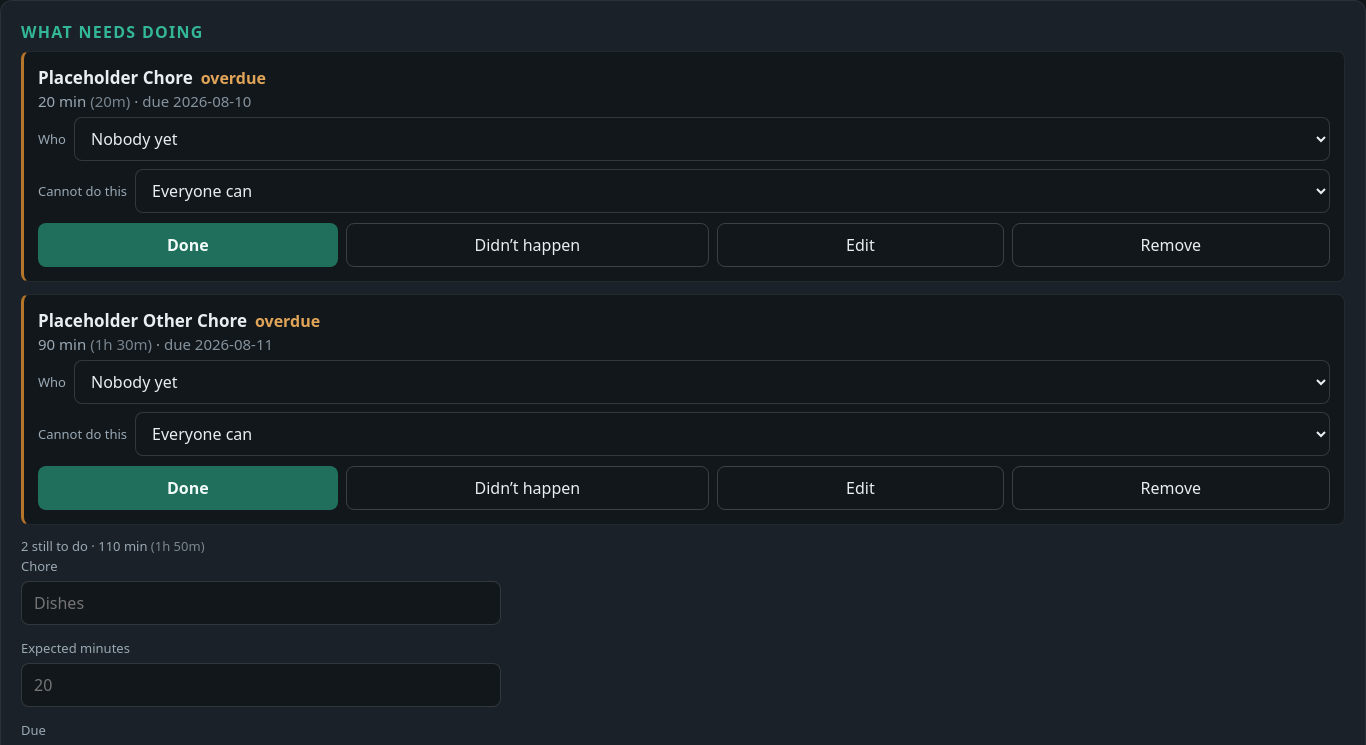
Test: AC 6 — editing and removing go through the handler › cancelling an edit restores what was there
Click the button with aria-label "edit placeholder chore" at (860, 245), box x1=717 y1=223 x2=1004 y2=267
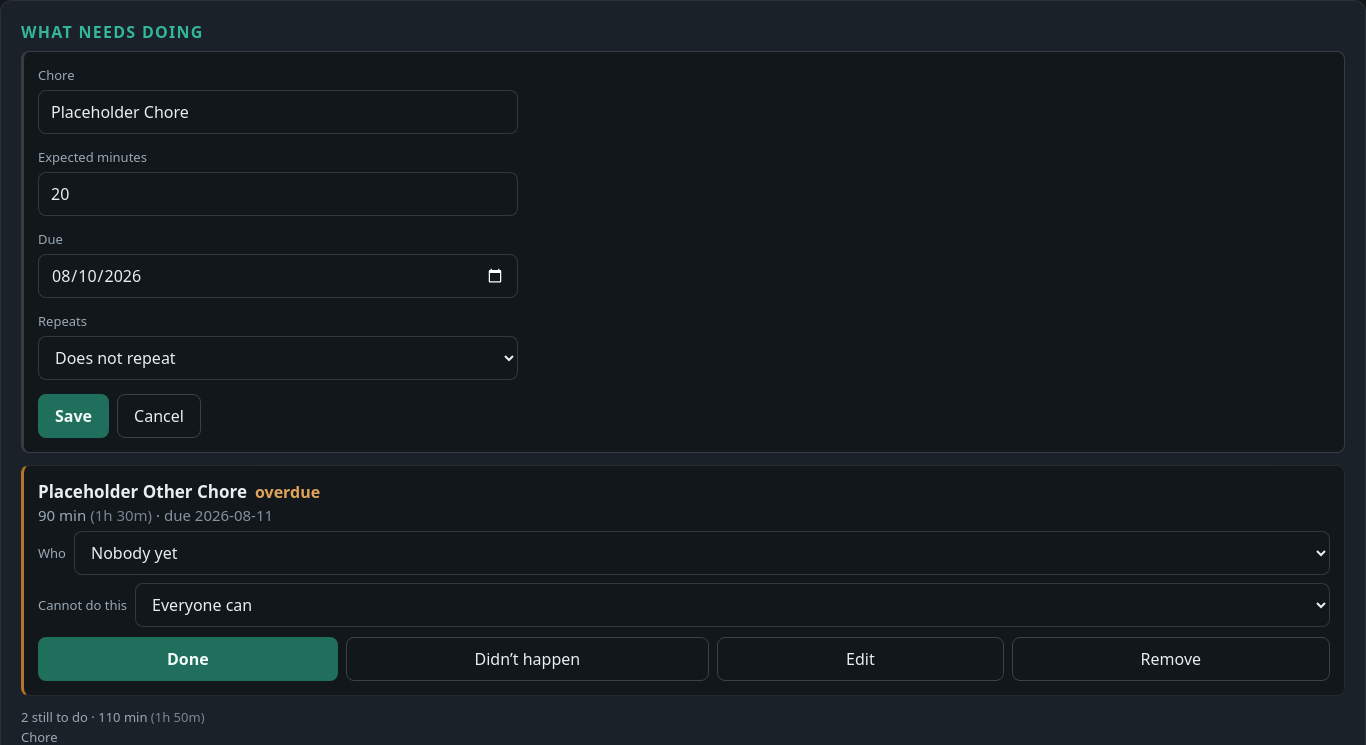
Replace the text in the field named "name for placeholder chore" with "Something else" at (278, 112), box x1=38 y1=90 x2=518 y2=134
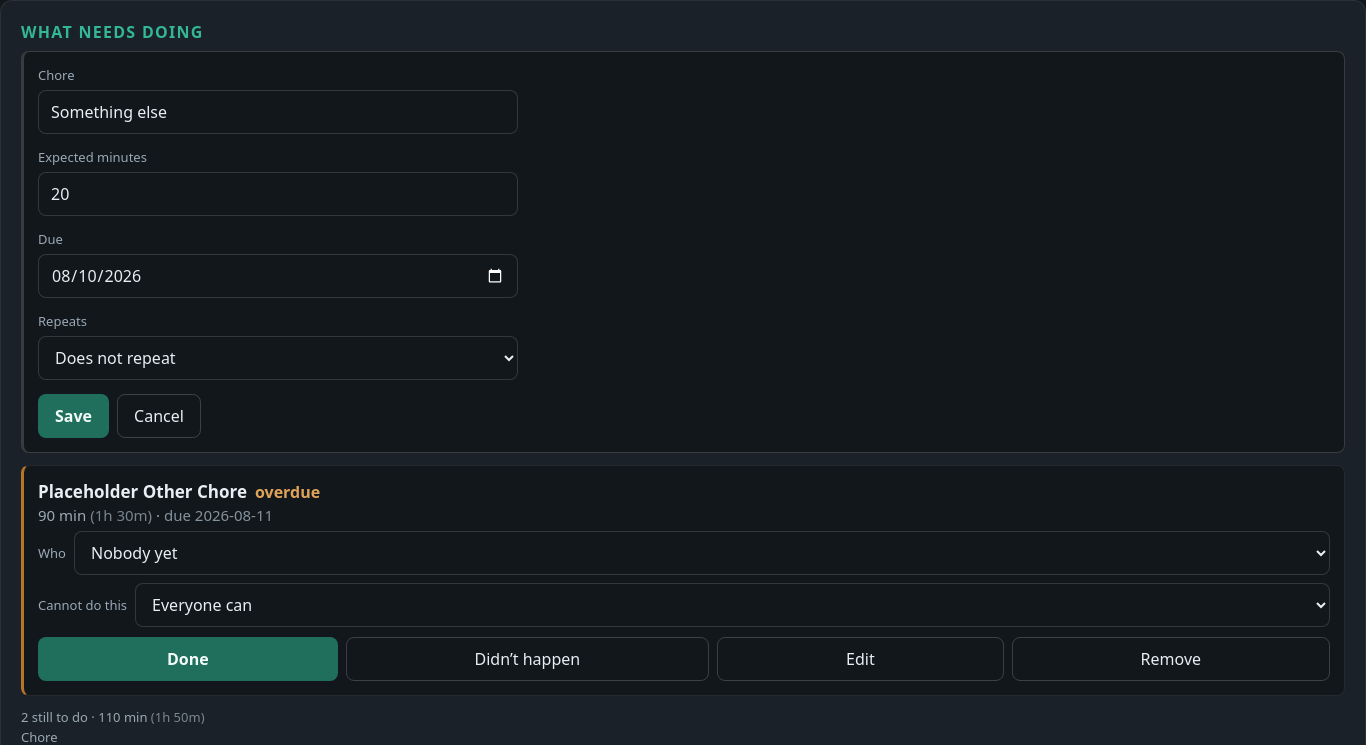
Click the button "Cancel" at (159, 416), box x1=117 y1=394 x2=201 y2=438
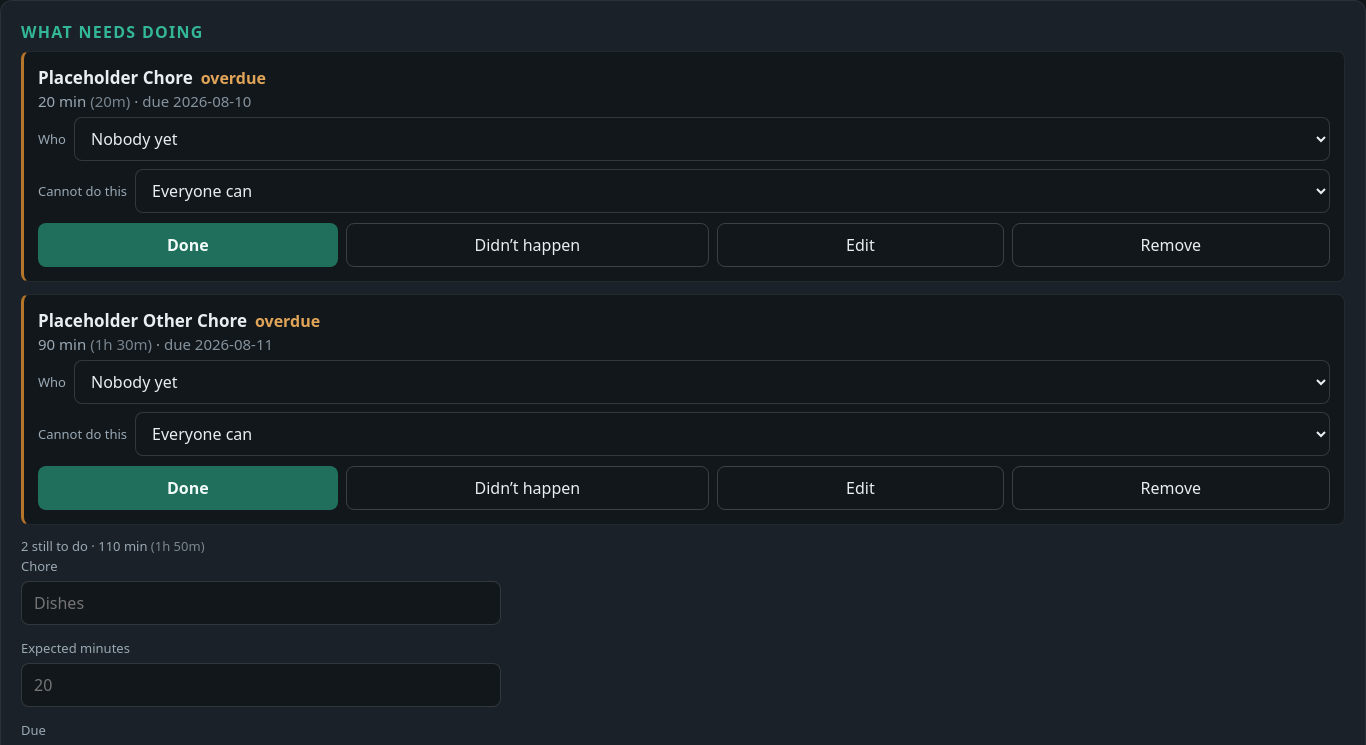
Expected: the text "Placeholder Chore" is shown, x1=38 y1=66 x2=193 y2=89
